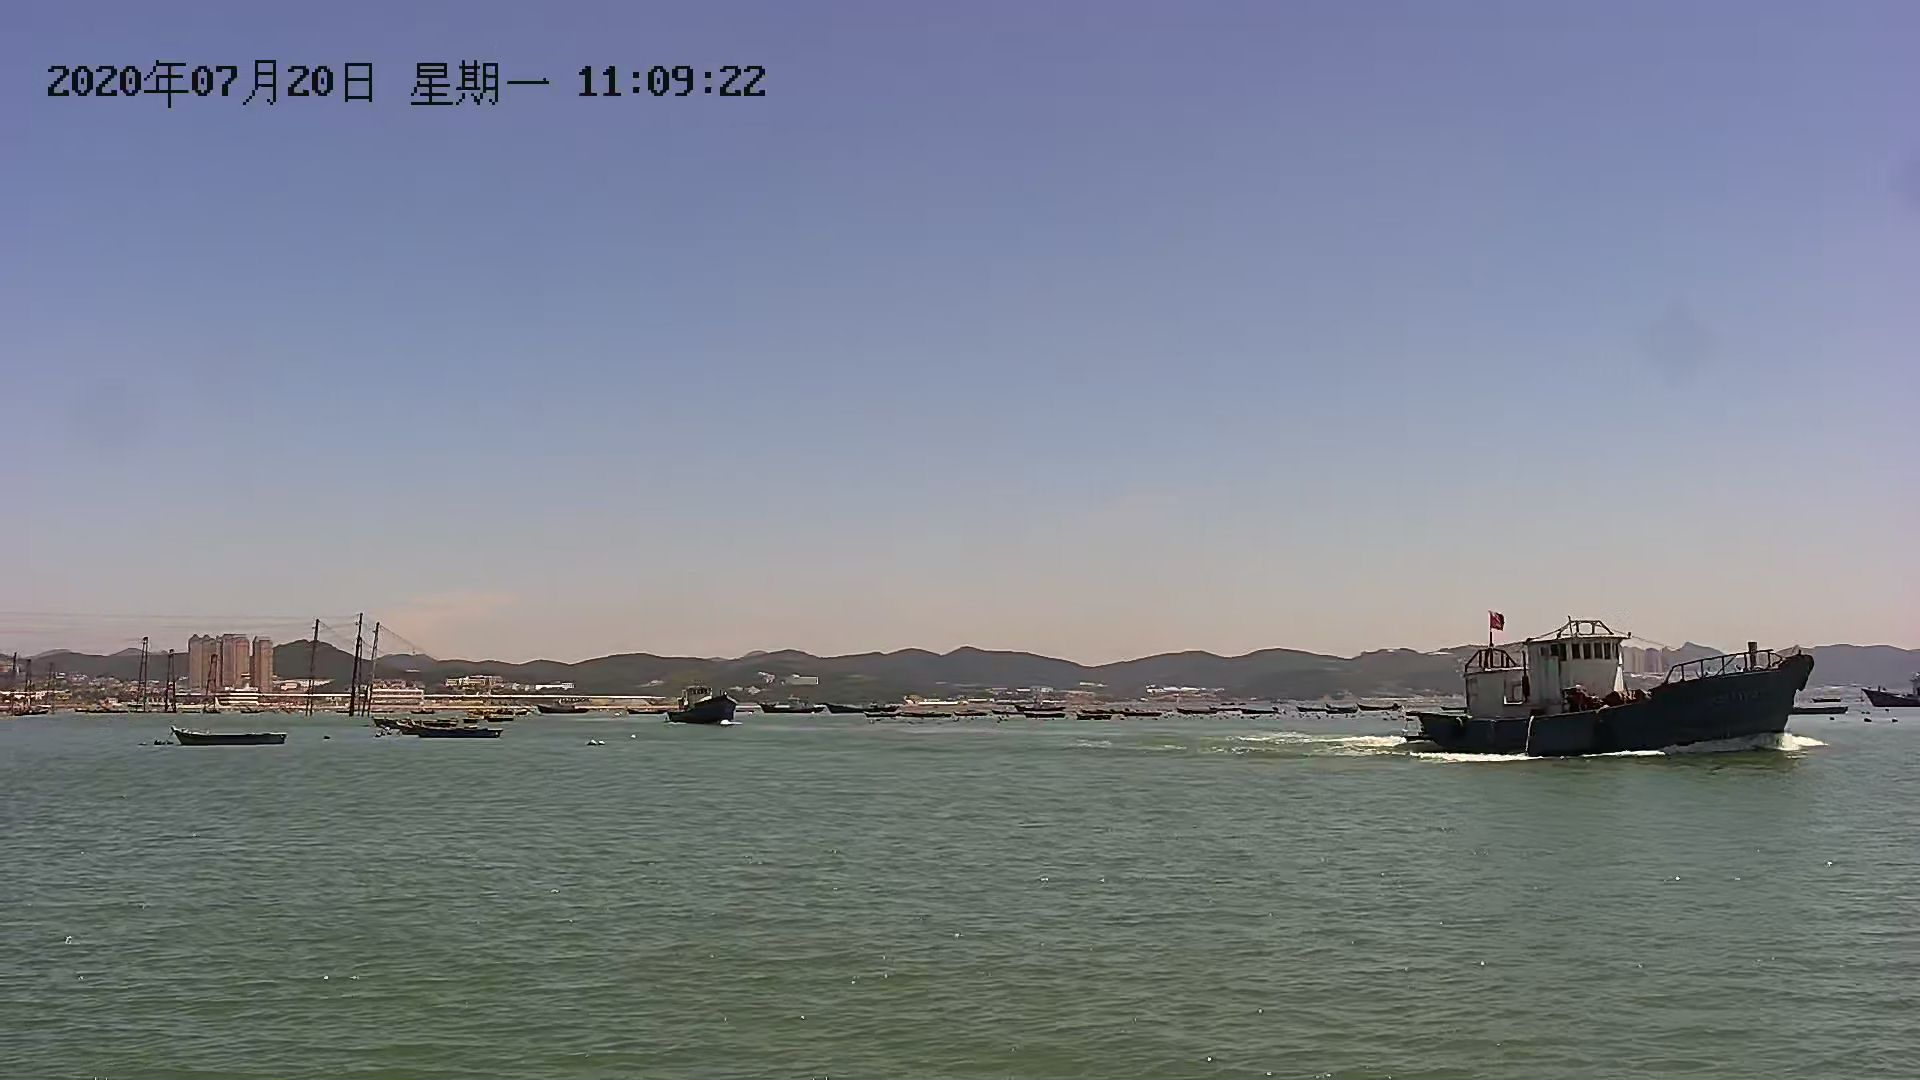boat: (164, 720, 291, 750), (392, 713, 491, 738)
mast: (343, 615, 363, 723), (303, 615, 322, 723), (361, 615, 380, 723), (135, 609, 153, 717), (161, 616, 179, 724), (203, 615, 222, 723)
ship: (1406, 625, 1822, 769), (663, 684, 741, 732)
